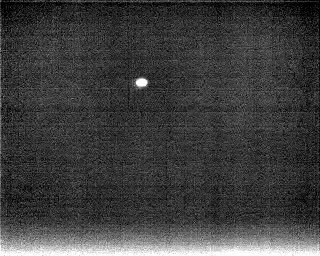AIRPLANE: (133, 75, 150, 90)
